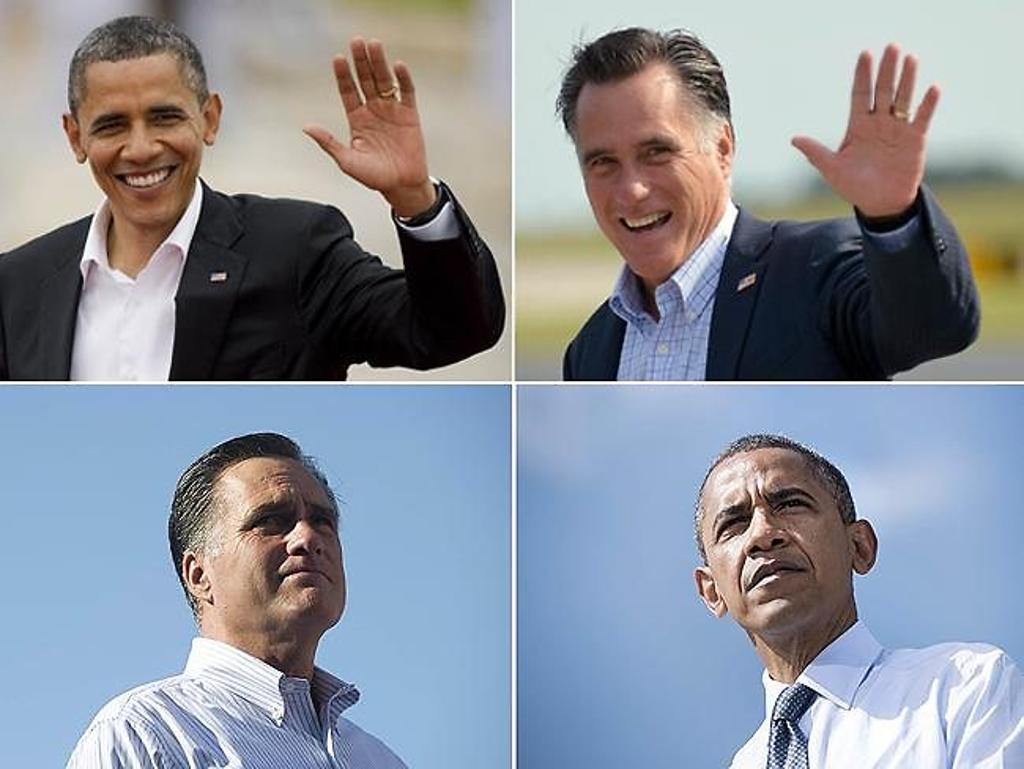face: (700, 442, 850, 634), (576, 74, 708, 282), (206, 462, 348, 624), (80, 44, 204, 224)
